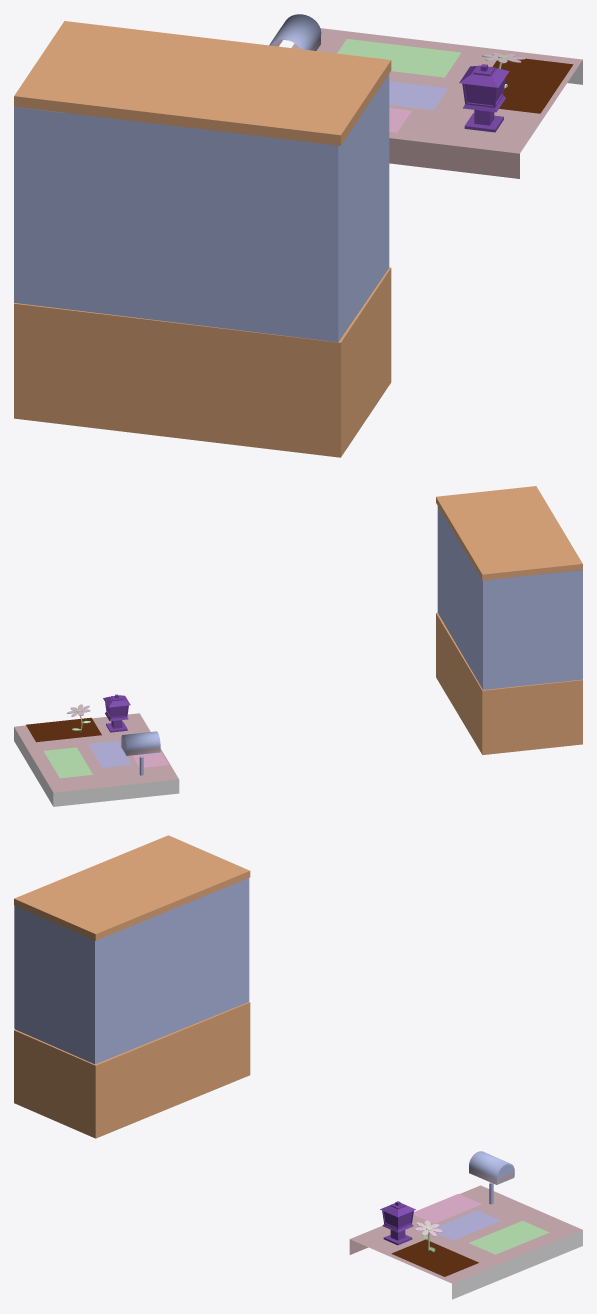
File: Final Version 9.glb
The picture shows the model from 3 angles, top to bottom: view 1: azimuth 30°, elevation 25°; view 2: azimuth 150°, elevation 25°; view 3: azimuth 270°, elevation 25°; orthographic projection. The views are drawn at different scales.
Visible parts, largest first — view 1: aquarium, mini floor, dirt, floorthird, lamp, floorsecond, mail box; view 2: aquarium, mini floor, dirt, floorthird, mail box, floorsecond, lamp; view 3: aquarium, mini floor, dirt, floorthird, mail box, lamp, floorfirst, floorsecond.
Part boxes in pixels (x1,y1,x2,y2): aquarium: [14, 21, 391, 457]; mini floor: [291, 28, 582, 178]; dirt: [492, 58, 573, 113]; floorthird: [337, 39, 460, 77]; lamp: [459, 64, 509, 132]; floorsecond: [389, 81, 447, 110]; mail box: [269, 14, 321, 50]; aquarium: [436, 486, 582, 754]; mini floor: [14, 713, 179, 806]; dirt: [26, 717, 101, 742]; floorthird: [43, 747, 92, 778]; mail box: [121, 731, 160, 775]; floorsecond: [88, 740, 131, 767]; lamp: [103, 694, 130, 732]; aquarium: [14, 835, 250, 1138]; mini floor: [349, 1185, 582, 1299]; dirt: [391, 1239, 478, 1276]; floorthird: [469, 1220, 549, 1254]; mail box: [469, 1151, 514, 1204]; lamp: [380, 1201, 415, 1245]; floorfirst: [413, 1194, 481, 1223]; floorsecond: [434, 1210, 500, 1240].
Size of the model in its own units: 23.83 by 9.94 by 23.37.
